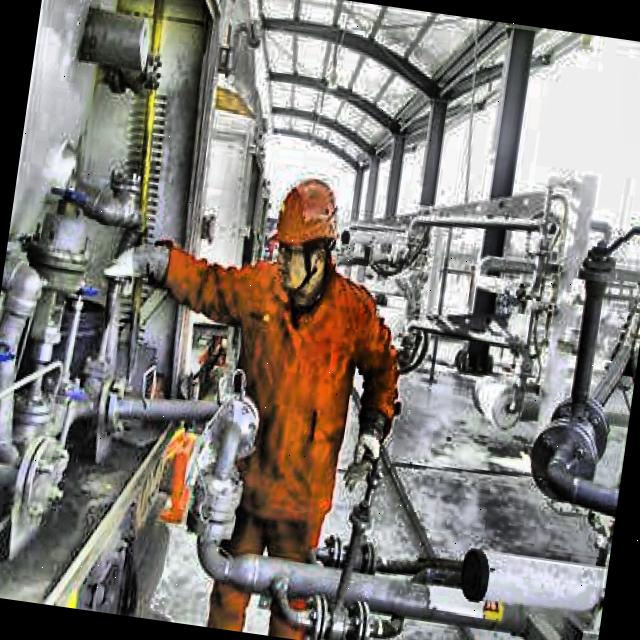helmet: (255, 162, 356, 318)
